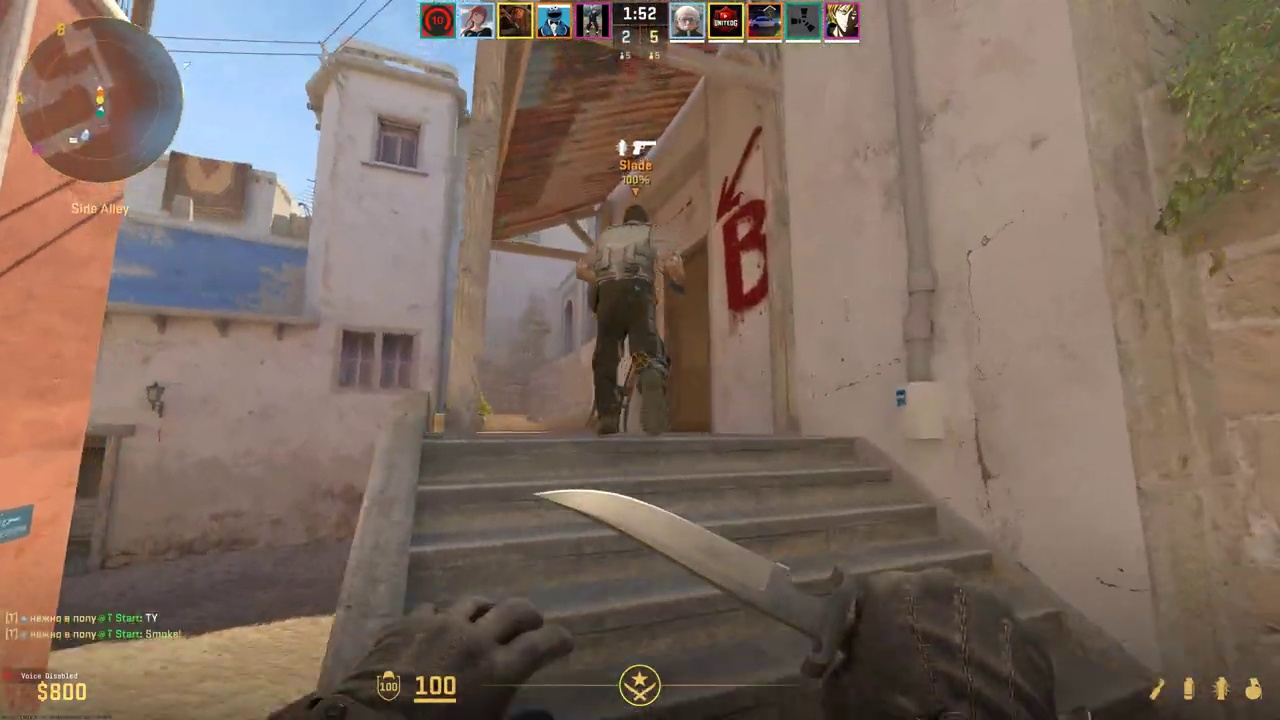Terrorist: (586, 205, 671, 432)
